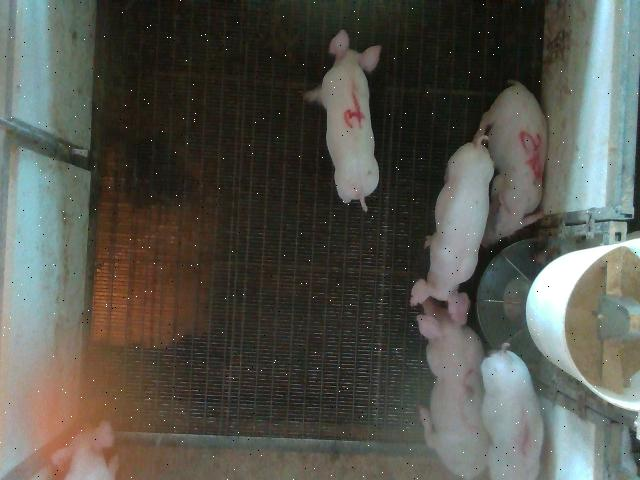pig-1: (481, 342, 544, 479)
pig-3: (418, 299, 489, 478)
pig-4: (304, 30, 381, 211)
pig-5: (476, 81, 548, 246)
